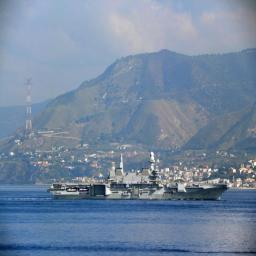Portanaves: (48, 148, 235, 202)
